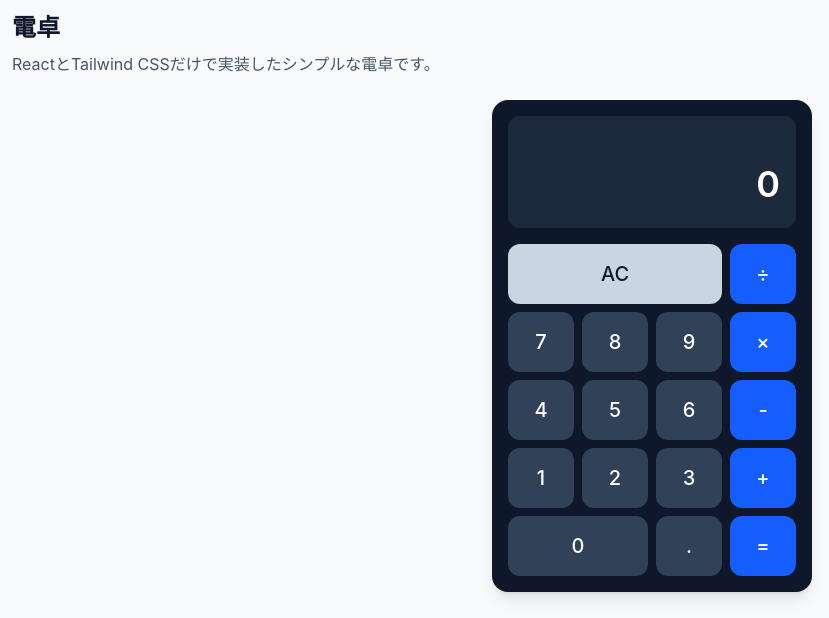
Test case: Calculator ページ › 基本演算: 2 + 3 = で 5 が表示される
Click the button "2".
click(615, 478)  # box [582,448,648,508]
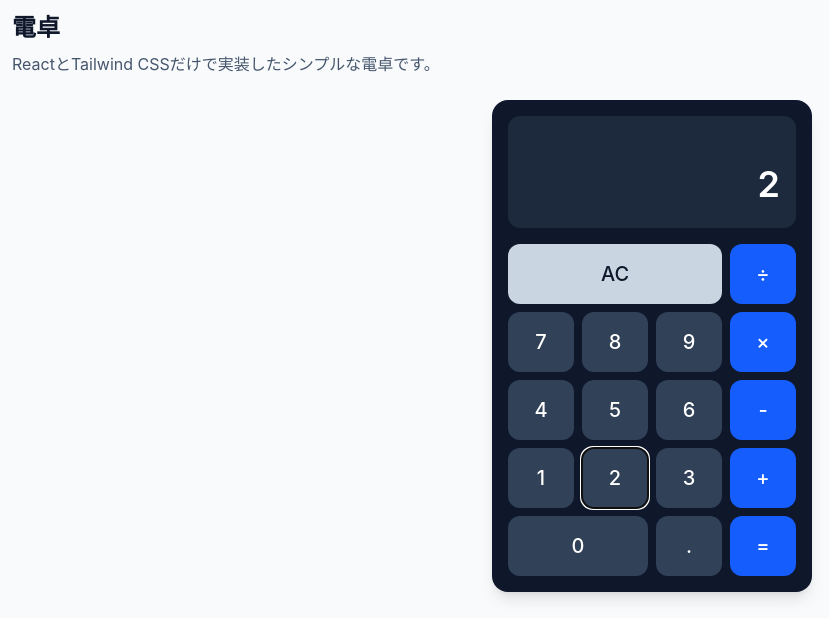
Click the button "+".
click(763, 478)  # box [730,448,796,508]
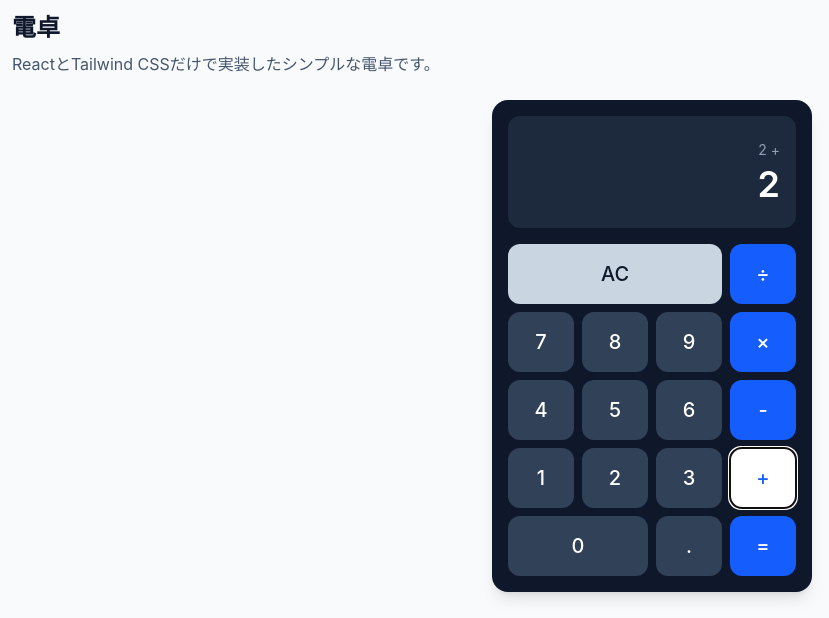
Click the button "3".
click(689, 478)  # box [656,448,722,508]
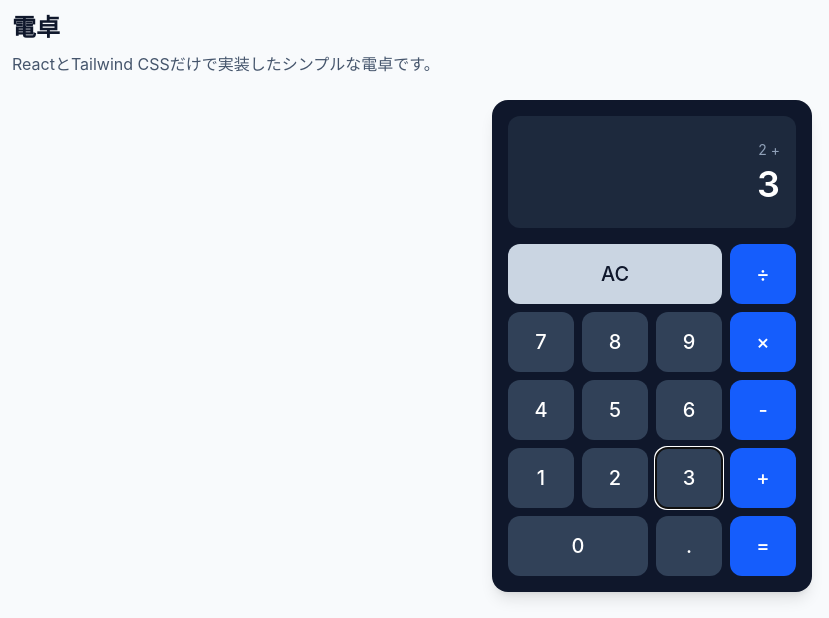
Click the button "=".
click(763, 546)  # box [730,516,796,576]
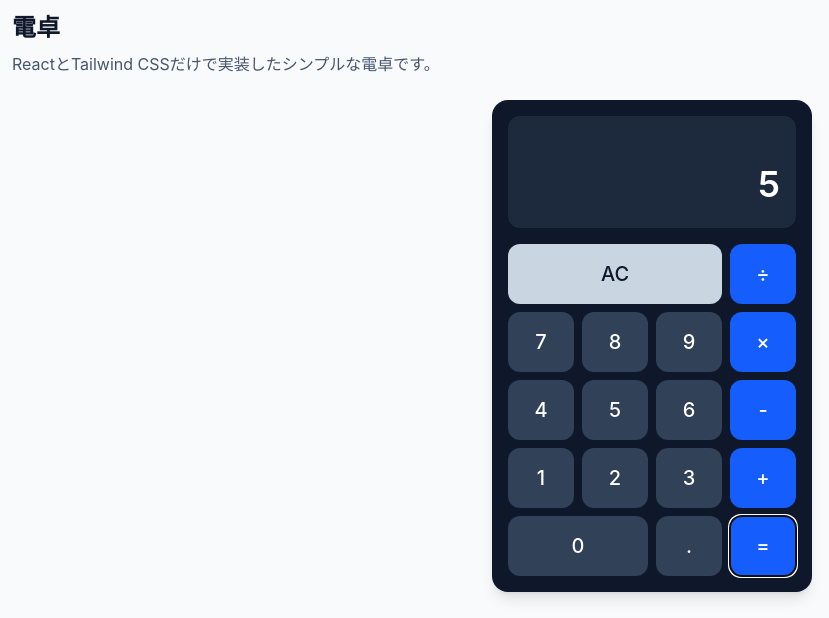
Check: the text with test id "calculator-display" reads "5", box [758,162,780,206]
